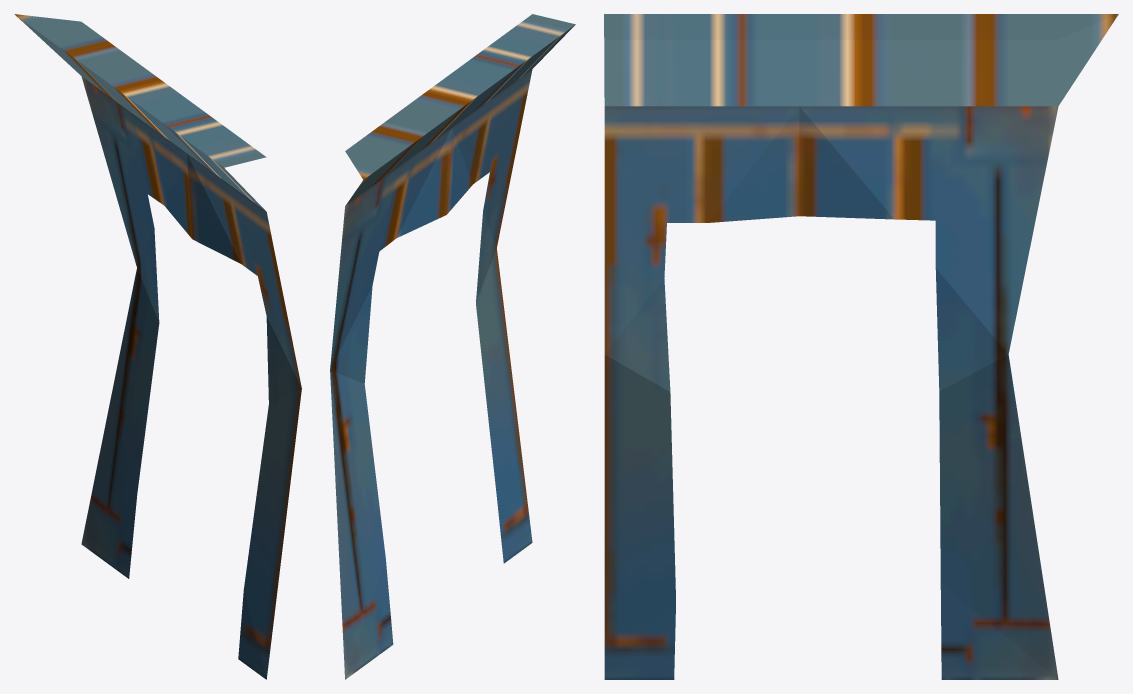
The model's file is W_A2l_Tür [BlauesBlech]_1774.glb.
The picture shows the model from 3 angles, left to right: view 1: azimuth 30°, elevation 25°; view 2: azimuth 150°, elevation 25°; view 3: azimuth 270°, elevation 25°; orthographic projection. The views are drawn at different scales.
Parts seen in each view (by area): view 1: polySurfaceShape1204, polySurfaceShape1206; view 2: polySurfaceShape1204, polySurfaceShape1206; view 3: polySurfaceShape1204, polySurfaceShape1206.
Boxes of the visible parts, box(x1,y1,x2,y2) form: polySurfaceShape1204: box(81, 76, 301, 679); polySurfaceShape1206: box(14, 14, 266, 210); polySurfaceShape1204: box(330, 69, 532, 679); polySurfaceShape1206: box(345, 14, 575, 205); polySurfaceShape1204: box(604, 106, 1058, 679); polySurfaceShape1206: box(604, 14, 1118, 106).
Bounding box in the file's own units: 0.0607 × 0.3891 × 0.2836.
Materials: 2 (2 with a texture image).
